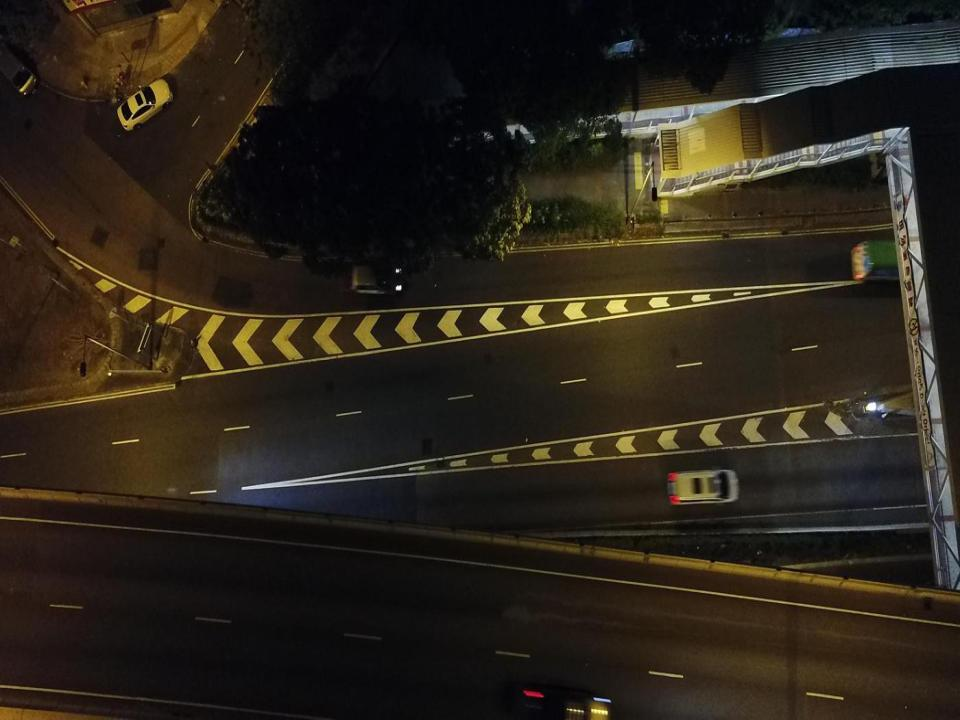bus: (852, 240, 942, 285)
car: (509, 683, 611, 719), (117, 75, 173, 134), (353, 262, 402, 295)
van: (667, 466, 739, 512), (0, 50, 36, 97)
